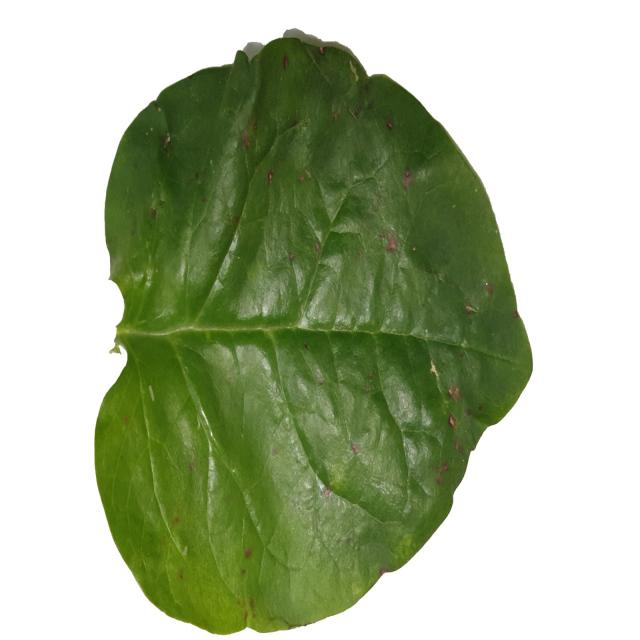Medicinal-Basale: (95, 35, 537, 632)
